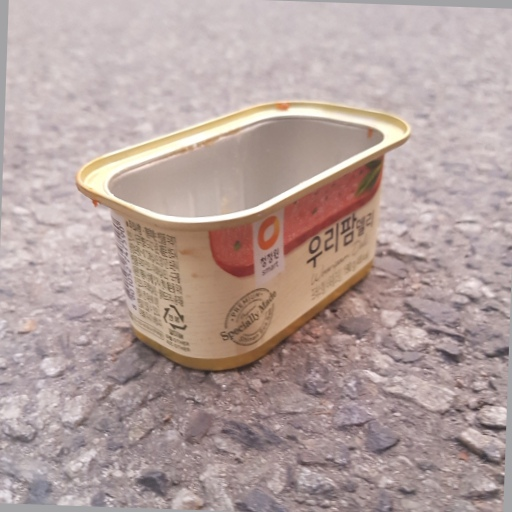Metal_2: (76, 95, 412, 375)
